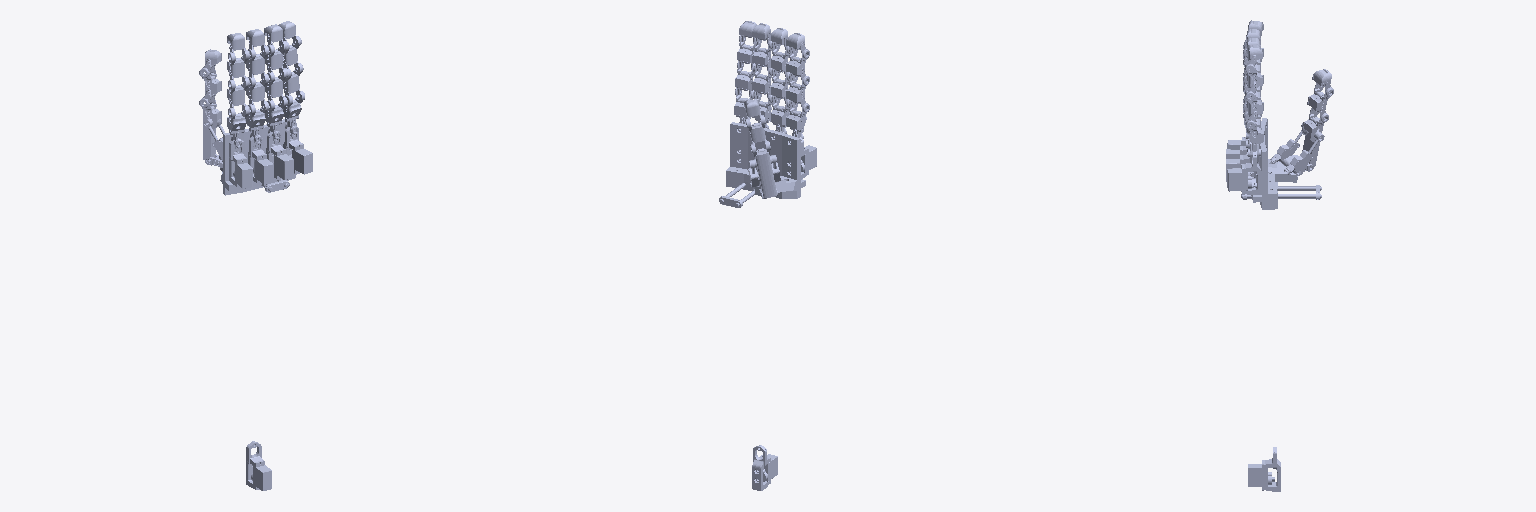
--- Facts derived from the render (not from the file) ---
Views: 3 orthographic renders of the robot side by side, from view 1: azimuth 30°, elevation 25°; view 2: azimuth 150°, elevation 25°; view 3: azimuth 270°, elevation 25°.
Model roborscht_v2 with 22 links and 21 joints (21 revolute), rooted at base_link, posed all joints at 0.
Links seen in each view (by area): view 1: wrist_link, base_link, thumb_metacarpal_link, index_metacarpal_link, middle_metacarpal_link, ring_metacarpal_link, little_metacarpal_link; view 2: wrist_link, thumb_metacarpal_link, base_link; view 3: wrist_link, base_link, thumb_aa_link, thumb_metacarpal_link.
Link boxes in pixels (<box>): wrist_link: <box>220,119,312,195</box>; base_link: <box>246,441,271,490</box>; thumb_metacarpal_link: <box>199,98,224,160</box>; index_metacarpal_link: <box>227,105,249,153</box>; middle_metacarpal_link: <box>246,101,268,149</box>; ring_metacarpal_link: <box>265,96,287,144</box>; little_metacarpal_link: <box>283,91,304,139</box>; wrist_link: <box>719,122,816,207</box>; thumb_metacarpal_link: <box>749,141,776,197</box>; base_link: <box>752,445,777,490</box>; wrist_link: <box>1226,118,1321,209</box>; base_link: <box>1248,447,1280,491</box>; thumb_aa_link: <box>1270,139,1314,175</box>; thumb_metacarpal_link: <box>1295,108,1328,165</box>.
Size in the robot's own frame: 0.0937 by 0.1223 by 0.5636 metres.
Meshes: 22 distinct files referenced, 22 mesh visuals loaded (22 binary STL).

URDF robot description (roborscht_v2):
<?xml version="1.0" encoding="utf-8"?>
<!-- This URDF was automatically created by SolidWorks to URDF Exporter! Originally created by Stephen Brawner ([email redacted]) 
     Commit Version: 1.6.0-4-g7f85cfe  Build Version: 1.6.7995.38578
     For more information, please see http://wiki.ros.org/sw_urdf_exporter -->
<robot
  name="roborscht_v2">
  <link
    name="base_link">
    <inertial>
      <origin
        xyz="0.00249128220671274 -0.00920978589091864 0.165666965895691"
        rpy="0 0 0" />
      <mass
        value="1.60062003014681" />
      <inertia
        ixx="0.0027143465061005"
        ixy="3.12017998085835E-06"
        ixz="5.33430259920602E-06"
        iyy="0.00270746297101908"
        iyz="-1.8284282170571E-05"
        izz="0.00253166095723783" />
    </inertial>
    <visual>
      <origin
        xyz="0 0 0"
        rpy="0 0 0" />
      <geometry>
        <mesh
          filename="package://roborscht_description/meshes/roborscht_v2/base_link.STL" />
      </geometry>
      <material
        name="">
        <color
          rgba="0.792156862745098 0.819607843137255 0.933333333333333 1" />
      </material>
    </visual>
    <collision>
      <origin
        xyz="0 0 0"
        rpy="0 0 0" />
      <geometry>
        <mesh
          filename="package://roborscht_description/meshes/roborscht_v2/base_link.STL" />
      </geometry>
    </collision>
  </link>
  <link
    name="wrist_link">
    <inertial>
      <origin
        xyz="-0.000321531601005232 -0.026020154595619 0.0225125163928446"
        rpy="0 0 0" />
      <mass
        value="0.119661391700453" />
      <inertia
        ixx="3.43936644119169E-05"
        ixy="2.31044853931875E-06"
        ixz="-1.74789777627629E-06"
        iyy="6.81577888768642E-05"
        iyz="2.85780986713984E-06"
        izz="5.24697826067691E-05" />
    </inertial>
    <visual>
      <origin
        xyz="0 0 0"
        rpy="0 0 0" />
      <geometry>
        <mesh
          filename="package://roborscht_description/meshes/roborscht_v2/wrist_link.STL" />
      </geometry>
      <material
        name="">
        <color
          rgba="0.792156862745098 0.819607843137255 0.933333333333333 1" />
      </material>
    </visual>
    <collision>
      <origin
        xyz="0 0 0"
        rpy="0 0 0" />
      <geometry>
        <mesh
          filename="package://roborscht_description/meshes/roborscht_v2/wrist_link.STL" />
      </geometry>
    </collision>
  </link>
  <joint
    name="wrist_joint"
    type="revolute">
    <origin
      xyz="0 2.8857E-05 0.35884"
      rpy="0 0 1.4683E-05" />
    <parent
      link="base_link" />
    <child
      link="wrist_link" />
    <axis
      xyz="0 1 0" />
    <limit
      lower="-0.523"
      upper="0.523"
      effort="0"
      velocity="0" />
  </joint>
  <link
    name="thumb_aa_link">
    <inertial>
      <origin
        xyz="-0.000280890357710326 -4.17505623591663E-05 0.0133755982409185"
        rpy="0 0 0" />
      <mass
        value="0.00898644422505852" />
      <inertia
        ixx="2.90293570447313E-07"
        ixy="-3.4014656329242E-08"
        ixz="-7.06269829490079E-08"
        iyy="5.1406669712919E-07"
        iyz="-1.04983944922507E-08"
        izz="4.35650270779694E-07" />
    </inertial>
    <visual>
      <origin
        xyz="0 0 0"
        rpy="0 0 0" />
      <geometry>
        <mesh
          filename="package://roborscht_description/meshes/roborscht_v2/thumb_aa_link.STL" />
      </geometry>
      <material
        name="">
        <color
          rgba="0.792156862745098 0.819607843137255 0.933333333333333 1" />
      </material>
    </visual>
    <collision>
      <origin
        xyz="0 0 0"
        rpy="0 0 0" />
      <geometry>
        <mesh
          filename="package://roborscht_description/meshes/roborscht_v2/thumb_aa_link.STL" />
      </geometry>
    </collision>
  </link>
  <joint
    name="thumb_aa_joint"
    type="revolute">
    <origin
      xyz="-0.023473 0.015116 0.012303"
      rpy="0.21203 -0.15473 2.0612" />
    <parent
      link="wrist_link" />
    <child
      link="thumb_aa_link" />
    <axis
      xyz="0 0 -1" />
    <limit
      lower="-0.785"
      upper="0.785"
      effort="0"
      velocity="0" />
  </joint>
  <link
    name="thumb_metacarpal_link">
    <inertial>
      <origin
        xyz="-0.00414611353621272 0.0332355940457322 1.07528695664216E-06"
        rpy="0 0 0" />
      <mass
        value="0.0122467885919209" />
      <inertia
        ixx="2.82243673774046E-06"
        ixy="7.19922602110406E-08"
        ixz="4.76304732404403E-11"
        iyy="2.27557167204932E-07"
        iyz="-3.73411412209138E-10"
        izz="2.92982974548075E-06" />
    </inertial>
    <visual>
      <origin
        xyz="0 0 0"
        rpy="0 0 0" />
      <geometry>
        <mesh
          filename="package://roborscht_description/meshes/roborscht_v2/thumb_metacarpal_link.STL" />
      </geometry>
      <material
        name="">
        <color
          rgba="0.792156862745098 0.819607843137255 0.933333333333333 1" />
      </material>
    </visual>
    <collision>
      <origin
        xyz="0 0 0"
        rpy="0 0 0" />
      <geometry>
        <mesh
          filename="package://roborscht_description/meshes/roborscht_v2/thumb_metacarpal_link.STL" />
      </geometry>
    </collision>
  </link>
  <joint
    name="thumb_metacarpal_joint"
    type="revolute">
    <origin
      xyz="0.016321 0.002426 0"
      rpy="1.5708 -0.18725 -2.994" />
    <parent
      link="thumb_aa_link" />
    <child
      link="thumb_metacarpal_link" />
    <axis
      xyz="0 0 1" />
    <limit
      lower="-0.698"
      upper="0"
      effort="0"
      velocity="0" />
  </joint>
  <link
    name="thumb_proximal_link">
    <inertial>
      <origin
        xyz="0.0045055179899928 0.0181492180487913 -0.000670956789199817"
        rpy="0 0 0" />
      <mass
        value="0.00457448115697794" />
      <inertia
        ixx="1.29663807215213E-07"
        ixy="2.94380800783228E-09"
        ixz="7.94731764317086E-09"
        iyy="8.91294946962744E-08"
        iyz="-6.77499268612516E-10"
        izz="1.8231394166843E-07" />
    </inertial>
    <visual>
      <origin
        xyz="0 0 0"
        rpy="0 0 0" />
      <geometry>
        <mesh
          filename="package://roborscht_description/meshes/roborscht_v2/thumb_proximal_link.STL" />
      </geometry>
      <material
        name="">
        <color
          rgba="0.792156862745098 0.819607843137255 0.933333333333333 1" />
      </material>
    </visual>
    <collision>
      <origin
        xyz="0 0 0"
        rpy="0 0 0" />
      <geometry>
        <mesh
          filename="package://roborscht_description/meshes/roborscht_v2/thumb_proximal_link.STL" />
      </geometry>
    </collision>
  </link>
  <joint
    name="thumb_proximal_joint"
    type="revolute">
    <origin
      xyz="-0.009757 0.064261 0"
      rpy="0 -0.14639 0.07007" />
    <parent
      link="thumb_metacarpal_link" />
    <child
      link="thumb_proximal_link" />
    <axis
      xyz="0.14587 0 0.9893" />
    <limit
      lower="-0.698"
      upper="0"
      effort="0"
      velocity="0" />
    <mimic
      joint="thumb_metacarpal_joint"
      multiplier="1"
      offset="0" />
  </joint>
  <link
    name="thumb_distal_link">
    <inertial>
      <origin
        xyz="0.00386664883163609 0.0145684377351659 0.00011936252285516"
        rpy="0 0 0" />
      <mass
        value="0.00324557150318144" />
      <inertia
        ixx="7.14166254629341E-08"
        ixy="-6.97271417986461E-09"
        ixz="-8.07998444747798E-10"
        iyy="6.48299461143899E-08"
        iyz="3.09925836730766E-10"
        izz="1.10270578363082E-07" />
    </inertial>
    <visual>
      <origin
        xyz="0 0 0"
        rpy="0 0 0" />
      <geometry>
        <mesh
          filename="package://roborscht_description/meshes/roborscht_v2/thumb_distal_link.STL" />
      </geometry>
      <material
        name="">
        <color
          rgba="0.792156862745098 0.819607843137255 0.933333333333333 1" />
      </material>
    </visual>
    <collision>
      <origin
        xyz="0 0 0"
        rpy="0 0 0" />
      <geometry>
        <mesh
          filename="package://roborscht_description/meshes/roborscht_v2/thumb_distal_link.STL" />
      </geometry>
    </collision>
  </link>
  <joint
    name="thumb_distal_joint"
    type="revolute">
    <origin
      xyz="0 0.033972 0"
      rpy="-0.014336 0.14569 -0.098438" />
    <parent
      link="thumb_proximal_link" />
    <child
      link="thumb_distal_link" />
    <axis
      xyz="0 0 1" />
    <limit
      lower="-0.698"
      upper="0"
      effort="0"
      velocity="0" />
    <mimic
      joint="thumb_proximal_joint"
      multiplier="1"
      offset="0" />
  </joint>
  <link
    name="index_metacarpal_link">
    <inertial>
      <origin
        xyz="2.55528004478034E-06 0.0200961413845263 0.000165088380265799"
        rpy="0 0 0" />
      <mass
        value="0.00537510190726737" />
      <inertia
        ixx="2.53059740283561E-07"
        ixy="-1.87669861493256E-10"
        ixz="-2.35473640198391E-11"
        iyy="1.08190461856831E-07"
        iyz="-2.20514713115928E-08"
        izz="2.05816406436137E-07" />
    </inertial>
    <visual>
      <origin
        xyz="0 0 0"
        rpy="0 0 0" />
      <geometry>
        <mesh
          filename="package://roborscht_description/meshes/roborscht_v2/index_metacarpal_link.STL" />
      </geometry>
      <material
        name="">
        <color
          rgba="0.792156862745098 0.819607843137255 0.933333333333333 1" />
      </material>
    </visual>
    <collision>
      <origin
        xyz="0 0 0"
        rpy="0 0 0" />
      <geometry>
        <mesh
          filename="package://roborscht_description/meshes/roborscht_v2/index_metacarpal_link.STL" />
      </geometry>
    </collision>
  </link>
  <joint
    name="index_metacarpal_joint"
    type="revolute">
    <origin
      xyz="-0.0346470579448052 -0.0304679964629501 0.0605435263258682"
      rpy="1.5707963267949 0 -0.130899693899564" />
    <parent
      link="wrist_link" />
    <child
      link="index_metacarpal_link" />
    <axis
      xyz="0 0 -1" />
    <limit
      lower="-0.262"
      upper="0.262"
      effort="0"
      velocity="0" />
  </joint>
  <link
    name="index_proximal_link">
    <inertial>
      <origin
        xyz="0.00455519894552758 0.018149219363225 -6.55879232730472E-06"
        rpy="0 0 0" />
      <mass
        value="0.00457448161152816" />
      <inertia
        ixx="1.28490373622756E-07"
        ixy="3.0111088833287E-09"
        ixz="1.11577307708722E-11"
        iyy="8.91294617769697E-08"
        iyz="-2.40841956953647E-10"
        izz="1.83487393021688E-07" />
    </inertial>
    <visual>
      <origin
        xyz="0 0 0"
        rpy="0 0 0" />
      <geometry>
        <mesh
          filename="package://roborscht_description/meshes/roborscht_v2/index_proximal_link.STL" />
      </geometry>
      <material
        name="">
        <color
          rgba="0.792156862745098 0.819607843137255 0.933333333333333 1" />
      </material>
    </visual>
    <collision>
      <origin
        xyz="0 0 0"
        rpy="0 0 0" />
      <geometry>
        <mesh
          filename="package://roborscht_description/meshes/roborscht_v2/index_proximal_link.STL" />
      </geometry>
    </collision>
  </link>
  <joint
    name="index_proximal_joint"
    type="revolute">
    <origin
      xyz="0 0.0387859400469229 0.00523404007282108"
      rpy="-0.776601294403071 1.57079631189374 -0.776601294403069" />
    <parent
      link="index_metacarpal_link" />
    <child
      link="index_proximal_link" />
    <axis
      xyz="0 0 1" />
    <limit
      lower="-0.698"
      upper="0"
      effort="0"
      velocity="0" />
  </joint>
  <link
    name="index_middle_link">
    <inertial>
      <origin
        xyz="0.00447480519250099 0.0177672192872488 -6.83998447353895E-06"
        rpy="0 0 0" />
      <mass
        value="0.00438641334589751" />
      <inertia
        ixx="1.17446272298937E-07"
        ixy="3.0121682733483E-09"
        ixz="1.11046186931365E-11"
        iyy="8.46514881086028E-08"
        iyz="-2.30779224024325E-10"
        izz="1.69859418492486E-07" />
    </inertial>
    <visual>
      <origin
        xyz="0 0 0"
        rpy="0 0 0" />
      <geometry>
        <mesh
          filename="package://roborscht_description/meshes/roborscht_v2/index_middle_link.STL" />
      </geometry>
      <material
        name="">
        <color
          rgba="0.792156862745098 0.819607843137255 0.933333333333333 1" />
      </material>
    </visual>
    <collision>
      <origin
        xyz="0 0 0"
        rpy="0 0 0" />
      <geometry>
        <mesh
          filename="package://roborscht_description/meshes/roborscht_v2/index_middle_link.STL" />
      </geometry>
    </collision>
  </link>
  <joint
    name="index_middle_joint"
    type="revolute">
    <origin
      xyz="0 0.0339718800938581 0"
      rpy="0 0 0" />
    <parent
      link="index_proximal_link" />
    <child
      link="index_middle_link" />
    <axis
      xyz="0 0 1" />
    <limit
      lower="-0.698"
      upper="0"
      effort="0"
      velocity="0" />
    <mimic
      joint="index_proximal_joint"
      multiplier="1"
      offset="0" />
  </joint>
  <link
    name="index_distal_link">
    <inertial>
      <origin
        xyz="0.00526492031069437 0.0141234392377383 0.00011934464462976"
        rpy="0 0 0" />
      <mass
        value="0.00324558389041583" />
      <inertia
        ixx="7.00048998621889E-08"
        ixy="-7.47834387903455E-09"
        ixz="-7.73937651799758E-10"
        iyy="6.62418990427679E-08"
        iyz="3.87221072796283E-10"
        izz="1.10271038022725E-07" />
    </inertial>
    <visual>
      <origin
        xyz="0 0 0"
        rpy="0 0 0" />
      <geometry>
        <mesh
          filename="package://roborscht_description/meshes/roborscht_v2/index_distal_link.STL" />
      </geometry>
      <material
        name="">
        <color
          rgba="0.792156862745098 0.819607843137255 0.933333333333333 1" />
      </material>
    </visual>
    <collision>
      <origin
        xyz="0 0 0"
        rpy="0 0 0" />
      <geometry>
        <mesh
          filename="package://roborscht_description/meshes/roborscht_v2/index_distal_link.STL" />
      </geometry>
    </collision>
  </link>
  <joint
    name="index_distal_joint"
    type="revolute">
    <origin
      xyz="0 0.0331718800938581 0"
      rpy="0 0 0" />
    <parent
      link="index_middle_link" />
    <child
      link="index_distal_link" />
    <axis
      xyz="0 0 1" />
    <limit
      lower="-0.698"
      upper="0"
      effort="0"
      velocity="0" />
    <mimic
      joint="index_middle_joint"
      multiplier="1"
      offset="0" />
  </joint>
  <link
    name="middle_metacarpal_link">
    <inertial>
      <origin
        xyz="2.5556546591754E-06 0.0200961415933114 0.000165088372451327"
        rpy="0 0 0" />
      <mass
        value="0.00537510153137123" />
      <inertia
        ixx="2.53059723503824E-07"
        ixy="-1.87659896911225E-10"
        ixz="-2.35501656734931E-11"
        iyy="1.08190454856687E-07"
        iyz="-2.20514736537064E-08"
        izz="2.05816382294142E-07" />
    </inertial>
    <visual>
      <origin
        xyz="0 0 0"
        rpy="0 0 0" />
      <geometry>
        <mesh
          filename="package://roborscht_description/meshes/roborscht_v2/middle_metacarpal_link.STL" />
      </geometry>
      <material
        name="">
        <color
          rgba="0.792156862745098 0.819607843137255 0.933333333333333 1" />
      </material>
    </visual>
    <collision>
      <origin
        xyz="0 0 0"
        rpy="0 0 0" />
      <geometry>
        <mesh
          filename="package://roborscht_description/meshes/roborscht_v2/middle_metacarpal_link.STL" />
      </geometry>
    </collision>
  </link>
  <joint
    name="middle_metacarpal_joint"
    type="revolute">
    <origin
      xyz="-0.011579 -0.032509 0.060544"
      rpy="1.5708 0 -0.043633" />
    <parent
      link="wrist_link" />
    <child
      link="middle_metacarpal_link" />
    <axis
      xyz="0 0 -1" />
    <limit
      lower="-0.262"
      upper="0.262"
      effort="0"
      velocity="0" />
  </joint>
  <link
    name="middle_proximal_link">
    <inertial>
      <origin
        xyz="0.00447480520419297 0.0177672190634265 -6.83986564217753E-06"
        rpy="0 0 0" />
      <mass
        value="0.00438641328635537" />
      <inertia
        ixx="1.17446270009607E-07"
        ixy="3.01216822075195E-09"
        ixz="1.11046986699444E-11"
        iyy="8.46514887225525E-08"
        iyz="-2.30779334207164E-10"
        izz="1.69859417117799E-07" />
    </inertial>
    <visual>
      <origin
        xyz="0 0 0"
        rpy="0 0 0" />
      <geometry>
        <mesh
          filename="package://roborscht_description/meshes/roborscht_v2/middle_proximal_link.STL" />
      </geometry>
      <material
        name="">
        <color
          rgba="0.792156862745098 0.819607843137255 0.933333333333333 1" />
      </material>
    </visual>
    <collision>
      <origin
        xyz="0 0 0"
        rpy="0 0 0" />
      <geometry>
        <mesh
          filename="package://roborscht_description/meshes/roborscht_v2/middle_proximal_link.STL" />
      </geometry>
    </collision>
  </link>
  <joint
    name="middle_proximal_joint"
    type="revolute">
    <origin
      xyz="0 0.038786 0.005234"
      rpy="0 1.5708 0" />
    <parent
      link="middle_metacarpal_link" />
    <child
      link="middle_proximal_link" />
    <axis
      xyz="0 0 1" />
    <limit
      lower="-0.698"
      upper="0"
      effort="0"
      velocity="0" />
  </joint>
  <link
    name="middle_middle_link">
    <inertial>
      <origin
        xyz="0.004555198956539 0.0181492191437138 -6.55867824445044E-06"
        rpy="0 0 0" />
      <mass
        value="0.00457448155140277" />
      <inertia
        ixx="1.28490371316336E-07"
        ixy="3.01110883022318E-09"
        ixz="1.11578149845554E-11"
        iyy="8.91294624261492E-08"
        iyz="-2.40842060757791E-10"
        izz="1.83487391699889E-07" />
    </inertial>
    <visual>
      <origin
        xyz="0 0 0"
        rpy="0 0 0" />
      <geometry>
        <mesh
          filename="package://roborscht_description/meshes/roborscht_v2/middle_middle_link.STL" />
      </geometry>
      <material
        name="">
        <color
          rgba="0.792156862745098 0.819607843137255 0.933333333333333 1" />
      </material>
    </visual>
    <collision>
      <origin
        xyz="0 0 0"
        rpy="0 0 0" />
      <geometry>
        <mesh
          filename="package://roborscht_description/meshes/roborscht_v2/middle_middle_link.STL" />
      </geometry>
    </collision>
  </link>
  <joint
    name="middle_middle_joint"
    type="revolute">
    <origin
      xyz="0 0.033172 0"
      rpy="0 0 0" />
    <parent
      link="middle_proximal_link" />
    <child
      link="middle_middle_link" />
    <axis
      xyz="0 0 1" />
    <limit
      lower="-0.698"
      upper="0"
      effort="0"
      velocity="0" />
    <mimic
      joint="middle_proximal_joint"
      multiplier="1"
      offset="0" />
  </joint>
  <link
    name="middle_distal_link">
    <inertial>
      <origin
        xyz="0.00526492006860019 0.0141234393575538 0.000119344946418576"
        rpy="0 0 0" />
      <mass
        value="0.00324558400286932" />
      <inertia
        ixx="7.00048984454241E-08"
        ixy="-7.47833905952935E-09"
        ixz="-7.73936830801682E-10"
        iyy="6.62419004802774E-08"
        iyz="3.87218961512185E-10"
        izz="1.10271038154836E-07" />
    </inertial>
    <visual>
      <origin
        xyz="0 0 0"
        rpy="0 0 0" />
      <geometry>
        <mesh
          filename="package://roborscht_description/meshes/roborscht_v2/middle_distal_link.STL" />
      </geometry>
      <material
        name="">
        <color
          rgba="0.792156862745098 0.819607843137255 0.933333333333333 1" />
      </material>
    </visual>
    <collision>
      <origin
        xyz="0 0 0"
        rpy="0 0 0" />
      <geometry>
        <mesh
          filename="package://roborscht_description/meshes/roborscht_v2/middle_distal_link.STL" />
      </geometry>
    </collision>
  </link>
  <joint
    name="middle_distal_joint"
    type="revolute">
    <origin
      xyz="0 0.0339718800938538 0"
      rpy="0 0 0" />
    <parent
      link="middle_middle_link" />
    <child
      link="middle_distal_link" />
    <axis
      xyz="0 0 1" />
    <limit
      lower="-0.698"
      upper="0"
      effort="0"
      velocity="0" />
    <mimic
      joint="middle_middle_joint"
      multiplier="1"
      offset="0" />
  </joint>
  <link
    name="ring_metacarpal_link">
    <inertial>
      <origin
        xyz="2.55563814072213E-06 0.0200961410844845 0.000165088350757792"
        rpy="0 0 0" />
      <mass
        value="0.00537510142295649" />
      <inertia
        ixx="2.53059719418795E-07"
        ixy="-1.87659913170067E-10"
        ixz="-2.35503525582303E-11"
        iyy="1.08190455906327E-07"
        iyz="-2.20514724507882E-08"
        izz="2.05816376852637E-07" />
    </inertial>
    <visual>
      <origin
        xyz="0 0 0"
        rpy="0 0 0" />
      <geometry>
        <mesh
          filename="package://roborscht_description/meshes/roborscht_v2/ring_metacarpal_link.STL" />
      </geometry>
      <material
        name="">
        <color
          rgba="0.792156862745098 0.819607843137255 0.933333333333333 1" />
      </material>
    </visual>
    <collision>
      <origin
        xyz="0 0 0"
        rpy="0 0 0" />
      <geometry>
        <mesh
          filename="package://roborscht_description/meshes/roborscht_v2/ring_metacarpal_link.STL" />
      </geometry>
    </collision>
  </link>
  <joint
    name="ring_metacarpal_joint"
    type="revolute">
    <origin
      xyz="0.0115824295630682 -0.0325787147762147 0.0605435263258682"
      rpy="1.5707963267949 0 0.043633231299861" />
    <parent
      link="wrist_link" />
    <child
      link="ring_metacarpal_link" />
    <axis
      xyz="0 0 -1" />
    <limit
      lower="-0.262"
      upper="0.262"
      effort="0"
      velocity="0" />
  </joint>
  <link
    name="ring_proximal_link">
    <inertial>
      <origin
        xyz="0.00455519901985013 0.018149218673871 -6.55867948715083E-06"
        rpy="0 0 0" />
      <mass
        value="0.00457448142996301" />
      <inertia
        ixx="1.28490366113308E-07"
        ixy="3.01110803476697E-09"
        ixz="1.11578794051135E-11"
        iyy="8.91294632237249E-08"
        iyz="-2.4084198330616E-10"
        izz="1.83487387692616E-07" />
    </inertial>
    <visual>
      <origin
        xyz="0 0 0"
        rpy="0 0 0" />
      <geometry>
        <mesh
          filename="package://roborscht_description/meshes/roborscht_v2/ring_proximal_link.STL" />
      </geometry>
      <material
        name="">
        <color
          rgba="0.792156862745098 0.819607843137255 0.933333333333333 1" />
      </material>
    </visual>
    <collision>
      <origin
        xyz="0 0 0"
        rpy="0 0 0" />
      <geometry>
        <mesh
          filename="package://roborscht_description/meshes/roborscht_v2/ring_proximal_link.STL" />
      </geometry>
    </collision>
  </link>
  <joint
    name="ring_proximal_joint"
    type="revolute">
    <origin
      xyz="0 0.0387859400469264 0.0052340400728173"
      rpy="-1.28304577838625 1.57079630572147 -1.28304577838625" />
    <parent
      link="ring_metacarpal_link" />
    <child
      link="ring_proximal_link" />
    <axis
      xyz="0 0 1" />
    <limit
      lower="-0.698"
      upper="0"
      effort="0"
      velocity="0" />
  </joint>
  <link
    name="ring_middle_link">
    <inertial>
      <origin
        xyz="0.00447480526992894 0.0177672185842497 -6.83986696528582E-06"
        rpy="0 0 0" />
      <mass
        value="0.00438641316565884" />
      <inertia
        ixx="1.17446264826937E-07"
        ixy="3.01216742673402E-09"
        ixz="1.11047625641244E-11"
        iyy="8.46514894641066E-08"
        iyz="-2.3077926578675E-10"
        izz="1.69859413031408E-07" />
    </inertial>
    <visual>
      <origin
        xyz="0 0 0"
        rpy="0 0 0" />
      <geometry>
        <mesh
          filename="package://roborscht_description/meshes/roborscht_v2/ring_middle_link.STL" />
      </geometry>
      <material
        name="">
        <color
          rgba="0.792156862745098 0.819607843137255 0.933333333333333 1" />
      </material>
    </visual>
    <collision>
      <origin
        xyz="0 0 0"
        rpy="0 0 0" />
      <geometry>
        <mesh
          filename="package://roborscht_description/meshes/roborscht_v2/ring_middle_link.STL" />
      </geometry>
    </collision>
  </link>
  <joint
    name="ring_middle_joint"
    type="revolute">
    <origin
      xyz="0 0.033971880093858 0"
      rpy="0 0 0" />
    <parent
      link="ring_proximal_link" />
    <child
      link="ring_middle_link" />
    <axis
      xyz="0 0 1" />
    <limit
      lower="-0.698"
      upper="0"
      effort="0"
      velocity="0" />
    <mimic
      joint="ring_proximal_joint"
      multiplier="1"
      offset="0" />
  </joint>
  <link
    name="ring_distal_link">
    <inertial>
      <origin
        xyz="0.00526492001447393 0.0141234395702676 0.000119345254829678"
        rpy="0 0 0" />
      <mass
        value="0.00324558424388223" />
      <inertia
        ixx="7.00048993538569E-08"
        ixy="-7.47833374189344E-09"
        ixz="-7.73935080437395E-10"
        iyy="6.62419031245604E-08"
        iyz="3.87216056863086E-10"
        izz="1.10271043755536E-07" />
    </inertial>
    <visual>
      <origin
        xyz="0 0 0"
        rpy="0 0 0" />
      <geometry>
        <mesh
          filename="package://roborscht_description/meshes/roborscht_v2/ring_distal_link.STL" />
      </geometry>
      <material
        name="">
        <color
          rgba="0.792156862745098 0.819607843137255 0.933333333333333 1" />
      </material>
    </visual>
    <collision>
      <origin
        xyz="0 0 0"
        rpy="0 0 0" />
      <geometry>
        <mesh
          filename="package://roborscht_description/meshes/roborscht_v2/ring_distal_link.STL" />
      </geometry>
    </collision>
  </link>
  <joint
    name="ring_distal_joint"
    type="revolute">
    <origin
      xyz="0 0.0331718800938578 0"
      rpy="0 0 0" />
    <parent
      link="ring_middle_link" />
    <child
      link="ring_distal_link" />
    <axis
      xyz="0 0 1" />
    <limit
      lower="-0.698"
      upper="0"
      effort="0"
      velocity="0" />
    <mimic
      joint="ring_middle_joint"
      multiplier="1"
      offset="0" />
  </joint>
  <link
    name="little_metacarpal_link">
    <inertial>
      <origin
        xyz="2.55569266402467E-06 0.0200961407733372 0.000165088280387804"
        rpy="0 0 0" />
      <mass
        value="0.0053751011465034" />
      <inertia
        ixx="2.53059707033401E-07"
        ixy="-1.87655942478118E-10"
        ixz="-2.3551546630297E-11"
        iyy="1.08190454738954E-07"
        iyz="-2.20514733007704E-08"
        izz="2.05816361551018E-07" />
    </inertial>
    <visual>
      <origin
        xyz="0 0 0"
        rpy="0 0 0" />
      <geometry>
        <mesh
          filename="package://roborscht_description/meshes/roborscht_v2/little_metacarpal_link.STL" />
      </geometry>
      <material
        name="">
        <color
          rgba="0.792156862745098 0.819607843137255 0.933333333333333 1" />
      </material>
    </visual>
    <collision>
      <origin
        xyz="0 0 0"
        rpy="0 0 0" />
      <geometry>
        <mesh
          filename="package://roborscht_description/meshes/roborscht_v2/little_metacarpal_link.STL" />
      </geometry>
    </collision>
  </link>
  <joint
    name="little_metacarpal_joint"
    type="revolute">
    <origin
      xyz="0.0346591394064114 -0.0305597642734452 0.0605435263258682"
      rpy="1.5707963267949 0 0.130899693899567" />
    <parent
      link="wrist_link" />
    <child
      link="little_metacarpal_link" />
    <axis
      xyz="0.0871557427468128 0 -0.996194698091819" />
    <limit
      lower="-0.262"
      upper="0.262"
      effort="0"
      velocity="0" />
  </joint>
  <link
    name="little_proximal_link">
    <inertial>
      <origin
        xyz="0.00455519902441925 0.0181492181440616 -6.55869808535714E-06"
        rpy="0 0 0" />
      <mass
        value="0.00457448129060241" />
      <inertia
        ixx="1.28490360246208E-07"
        ixy="3.01110704981717E-09"
        ixz="1.11581507540802E-11"
        iyy="8.9129466073873E-08"
        iyz="-2.40841550907163E-10"
        izz="1.83487385303187E-07" />
    </inertial>
    <visual>
      <origin
        xyz="0 0 0"
        rpy="0 0 0" />
      <geometry>
        <mesh
          filename="package://roborscht_description/meshes/roborscht_v2/little_proximal_link.STL" />
      </geometry>
      <material
        name="">
        <color
          rgba="0.792156862745098 0.819607843137255 0.933333333333333 1" />
      </material>
    </visual>
    <collision>
      <origin
        xyz="0 0 0"
        rpy="0 0 0" />
      <geometry>
        <mesh
          filename="package://roborscht_description/meshes/roborscht_v2/little_proximal_link.STL" />
      </geometry>
    </collision>
  </link>
  <joint
    name="little_proximal_joint"
    type="revolute">
    <origin
      xyz="0 0.0387859400469276 0.00523404007281569"
      rpy="-1.64432209059825 1.57079631189374 -1.5707963267949" />
    <parent
      link="little_metacarpal_link" />
    <child
      link="little_proximal_link" />
    <axis
      xyz="0 0 1" />
    <limit
      lower="-0.698"
      upper="0"
      effort="0"
      velocity="0" />
  </joint>
  <link
    name="little_middle_link">
    <inertial>
      <origin
        xyz="0.00447480527733202 0.0177672180438269 -6.83988639962885E-06"
        rpy="0 0 0" />
      <mass
        value="0.00438641302771595" />
      <inertia
        ixx="1.17446258991272E-07"
        ixy="3.01216644824003E-09"
        ixz="1.1105033010025E-11"
        iyy="8.46514921476099E-08"
        iyz="-2.30778855431891E-10"
        izz="1.69859410427898E-07" />
    </inertial>
    <visual>
      <origin
        xyz="0 0 0"
        rpy="0 0 0" />
      <geometry>
        <mesh
          filename="package://roborscht_description/meshes/roborscht_v2/little_middle_link.STL" />
      </geometry>
      <material
        name="">
        <color
          rgba="0.792156862745098 0.819607843137255 0.933333333333333 1" />
      </material>
    </visual>
    <collision>
      <origin
        xyz="0 0 0"
        rpy="0 0 0" />
      <geometry>
        <mesh
          filename="package://roborscht_description/meshes/roborscht_v2/little_middle_link.STL" />
      </geometry>
    </collision>
  </link>
  <joint
    name="little_middle_joint"
    type="revolute">
    <origin
      xyz="0 0.033971880093858 0"
      rpy="0 0 0" />
    <parent
      link="little_proximal_link" />
    <child
      link="little_middle_link" />
    <axis
      xyz="0 0 1" />
    <limit
      lower="-0.698"
      upper="0"
      effort="0"
      velocity="0" />
    <mimic
      joint="little_proximal_joint"
      multiplier="1"
      offset="0" />
  </joint>
  <link
    name="little_distal_link">
    <inertial>
      <origin
        xyz="0.00526491952978281 0.0141234406133847 0.000119346244274787"
        rpy="0 0 0" />
      <mass
        value="0.00324558468478877" />
      <inertia
        ixx="7.00049042543183E-08"
        ixy="-7.47832162280398E-09"
        ixz="-7.73930539929549E-10"
        iyy="6.6241904315447E-08"
        iyz="3.87206916195227E-10"
        izz="1.10271059713719E-07" />
    </inertial>
    <visual>
      <origin
        xyz="0 0 0"
        rpy="0 0 0" />
      <geometry>
        <mesh
          filename="package://roborscht_description/meshes/roborscht_v2/little_distal_link.STL" />
      </geometry>
      <material
        name="">
        <color
          rgba="0.792156862745098 0.819607843137255 0.933333333333333 1" />
      </material>
    </visual>
    <collision>
      <origin
        xyz="0 0 0"
        rpy="0 0 0" />
      <geometry>
        <mesh
          filename="package://roborscht_description/meshes/roborscht_v2/little_distal_link.STL" />
      </geometry>
    </collision>
  </link>
  <joint
    name="little_distal_joint"
    type="revolute">
    <origin
      xyz="0 0.033172 0"
      rpy="0 0 0" />
    <parent
      link="little_middle_link" />
    <child
      link="little_distal_link" />
    <axis
      xyz="0 0 1" />
    <limit
      lower="-0.698"
      upper="0"
      effort="0"
      velocity="0" />
    <mimic
      joint="little_middle_joint"
      multiplier="1"
      offset="0" />
  </joint>
</robot>
